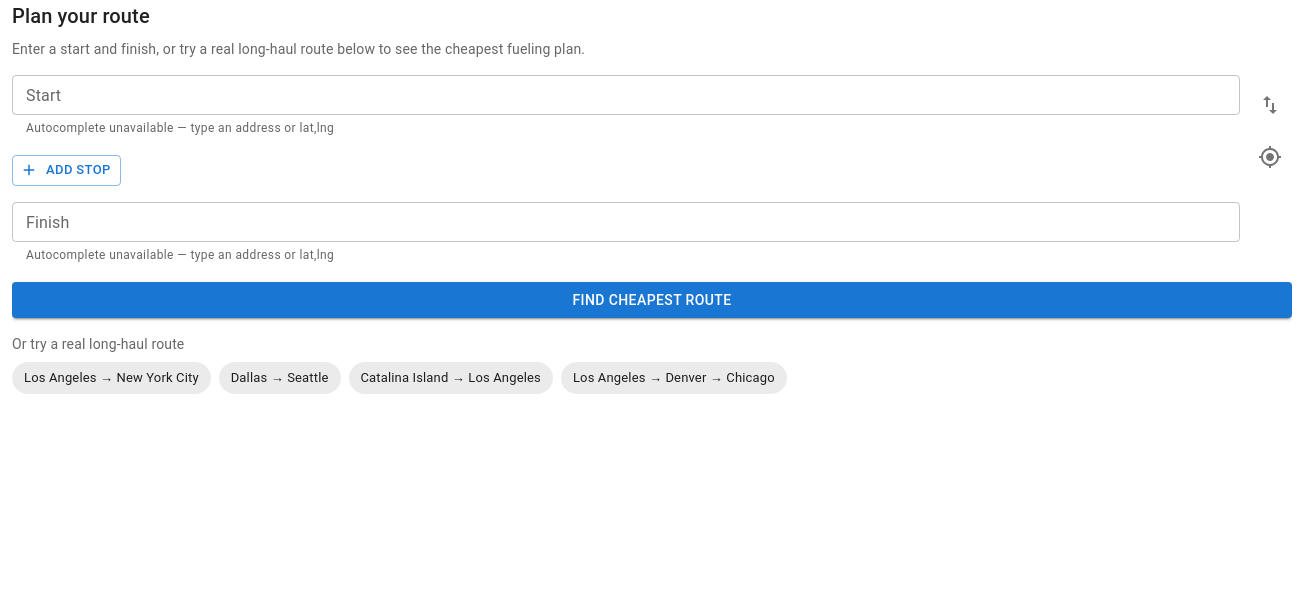
middle stop rows render between Start and Finish and letter sequentially
Click the button "Add stop" at (66, 170), box [12, 155, 121, 186]
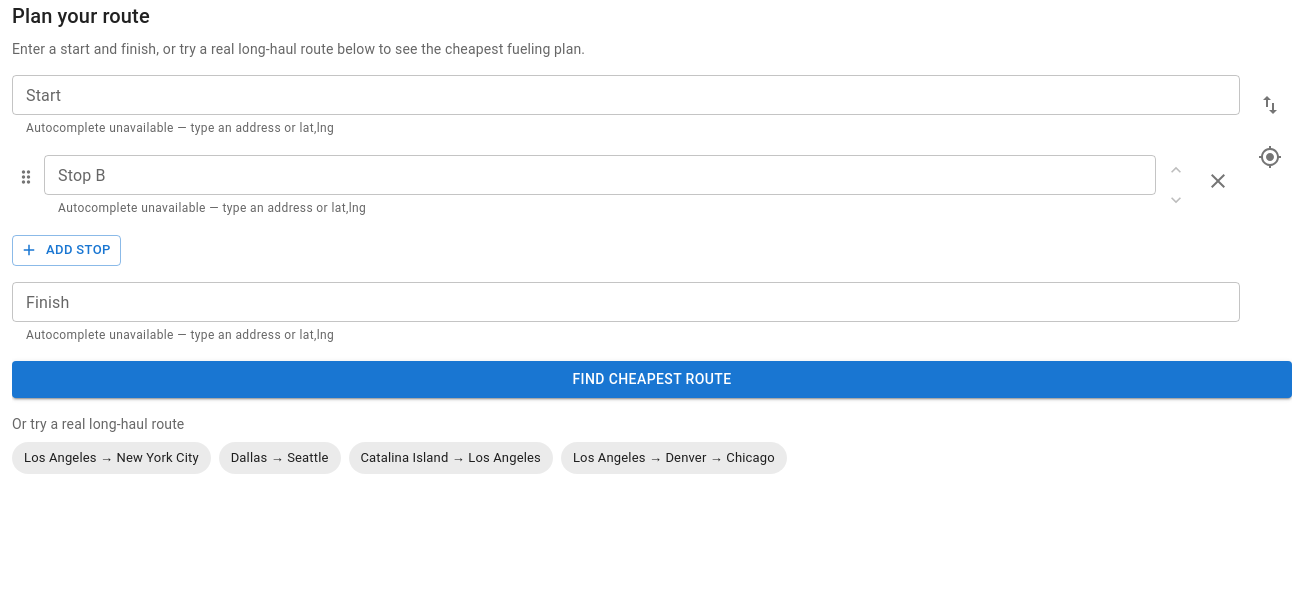
Click the button "Add stop" at (66, 250), box [12, 235, 121, 266]
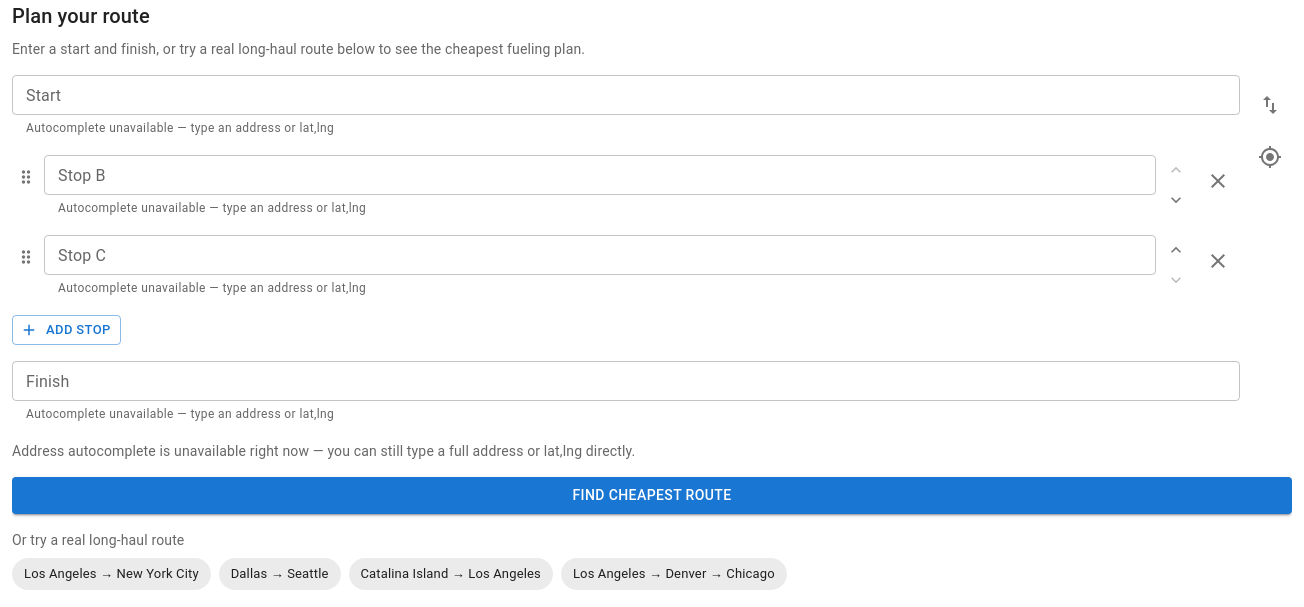
expect the dropdown labelled "Stop B" is shown: met, box [50, 161, 1147, 189]
expect the dropdown labelled "Stop C" is shown: met, box [50, 241, 1147, 269]
